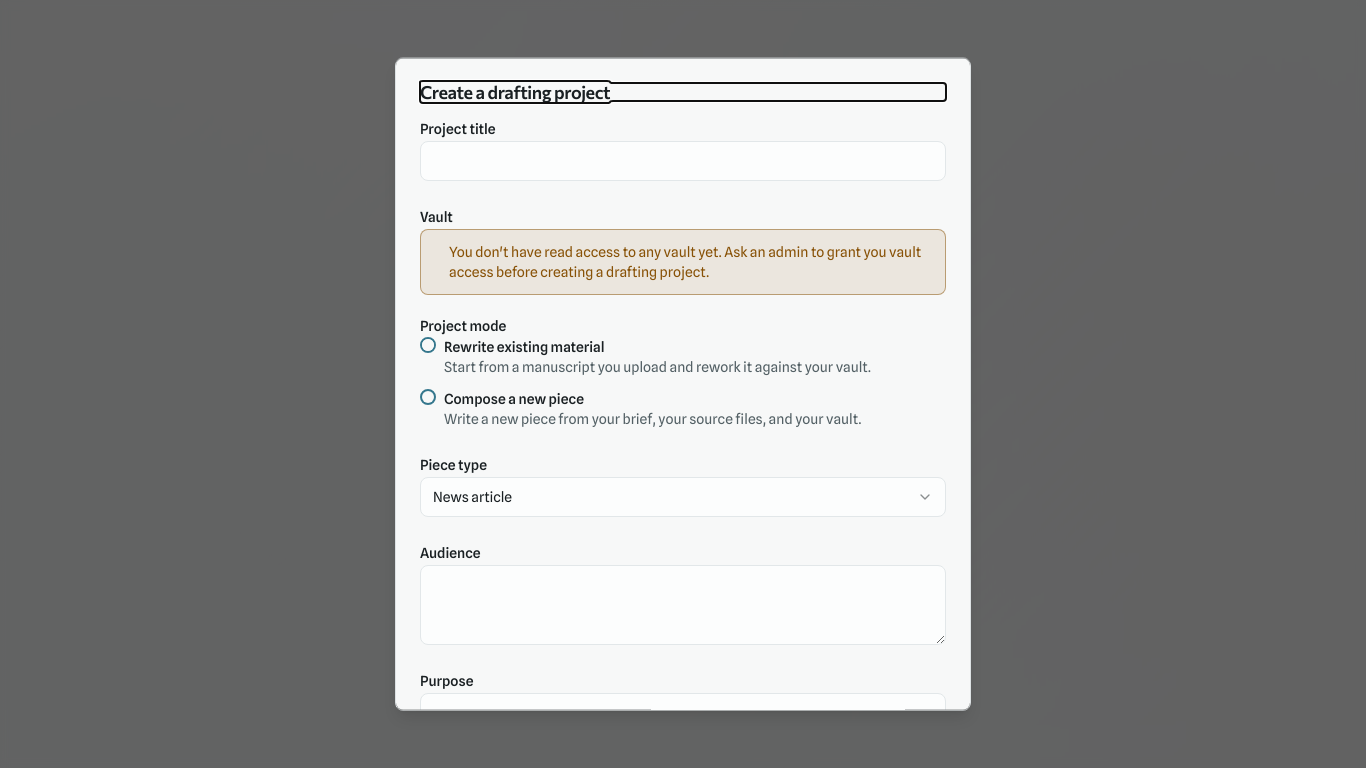
Test: DraftCreateDialog › renders the server's detail for an ordinary 422 failure
This screenshot has width=1366, height=768.
Type "Q3 press release" into the field labelled "Project title" at (683, 161), box [420,141,946,181]
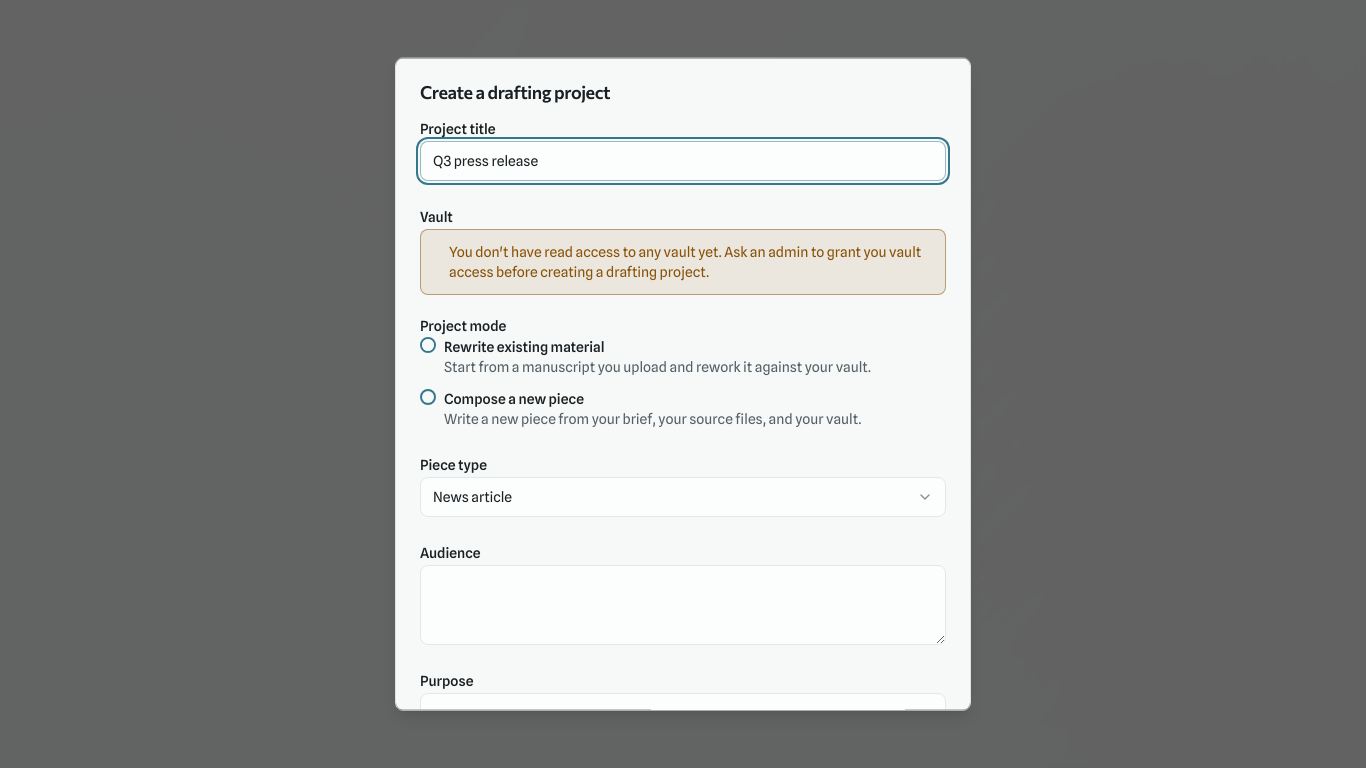
Type "Local reporters" into the text box labelled "Audience" at (683, 605), box [420,565,946,645]
(page scrolled)
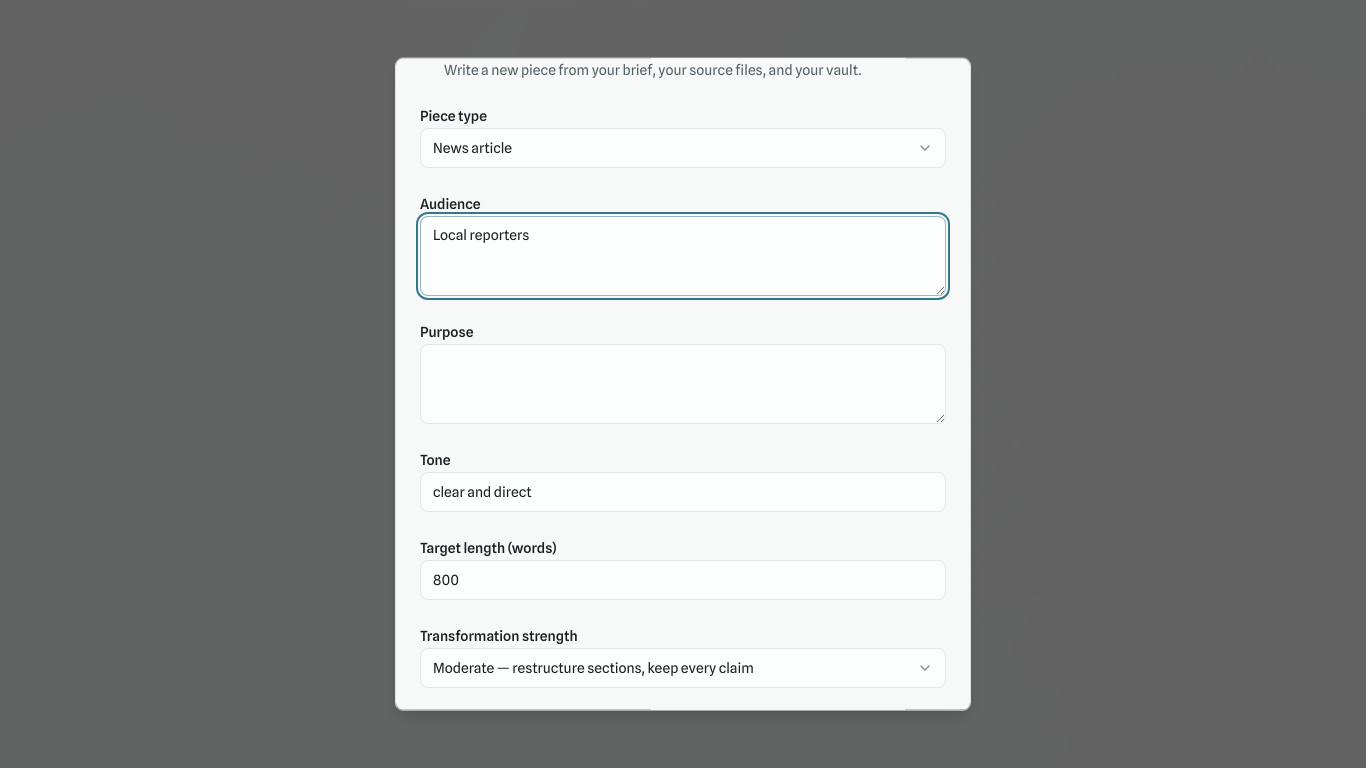
Type "Announce the Q3 results" into the text box labelled "Purpose" at (683, 384), box [420,344,946,424]
(page scrolled)
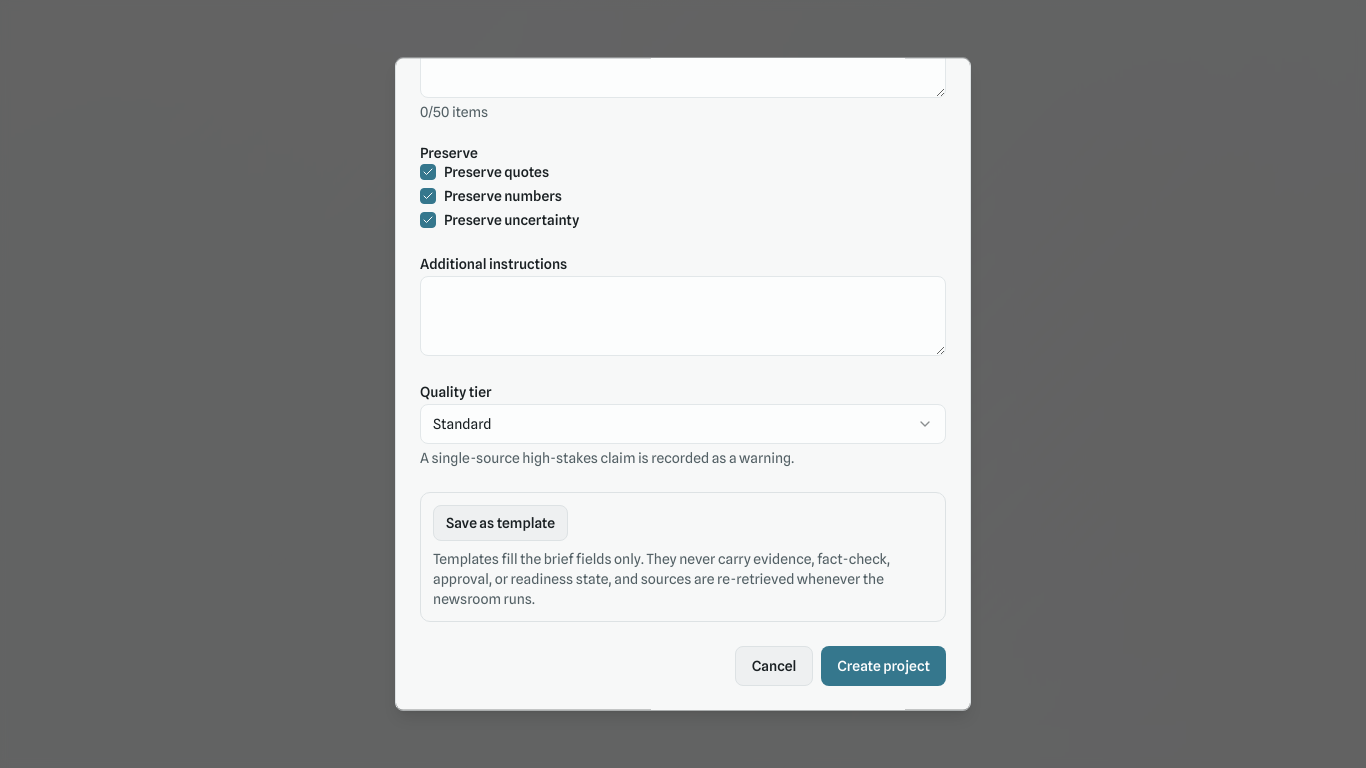
Click the button "Create project" at (884, 666), box [821,646,946,686]
(page scrolled)
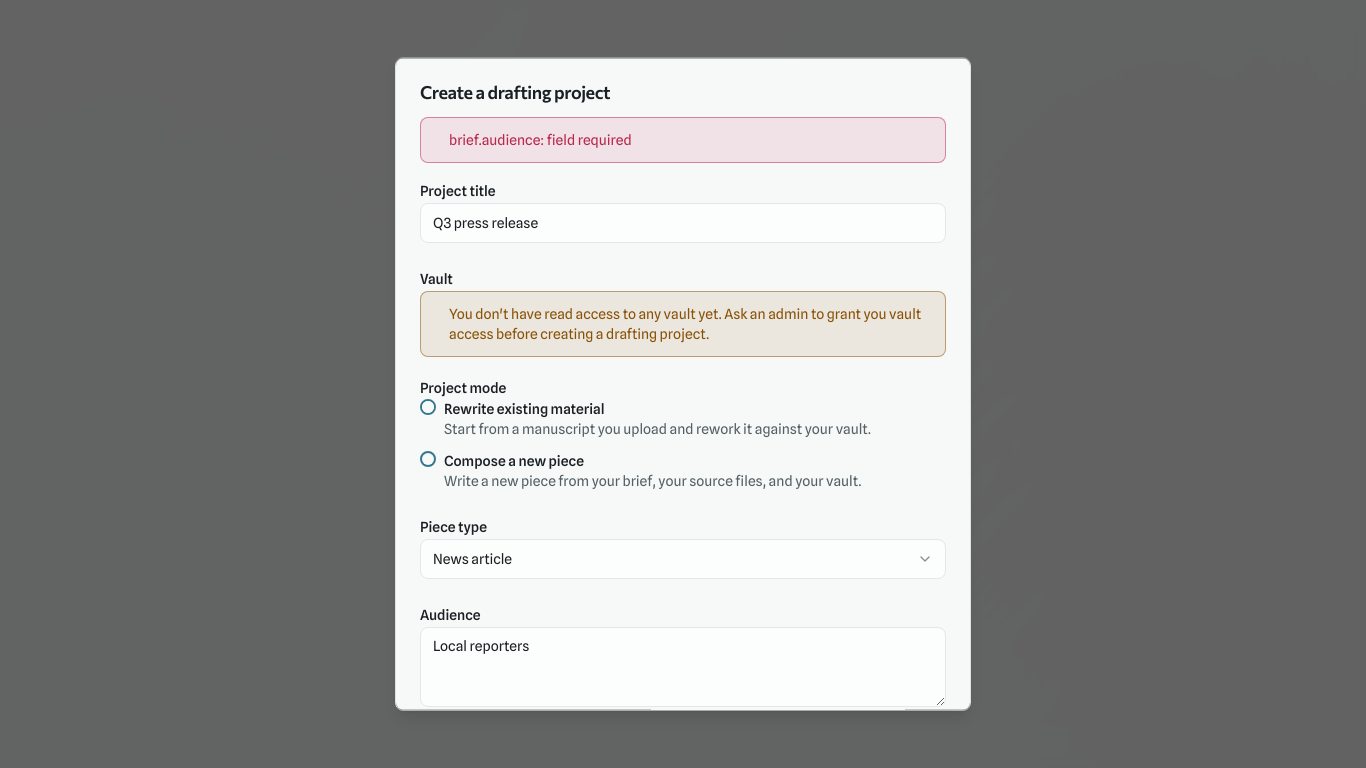
Expected: the text "brief.audience: field required" is shown, [449,132,632,148]
